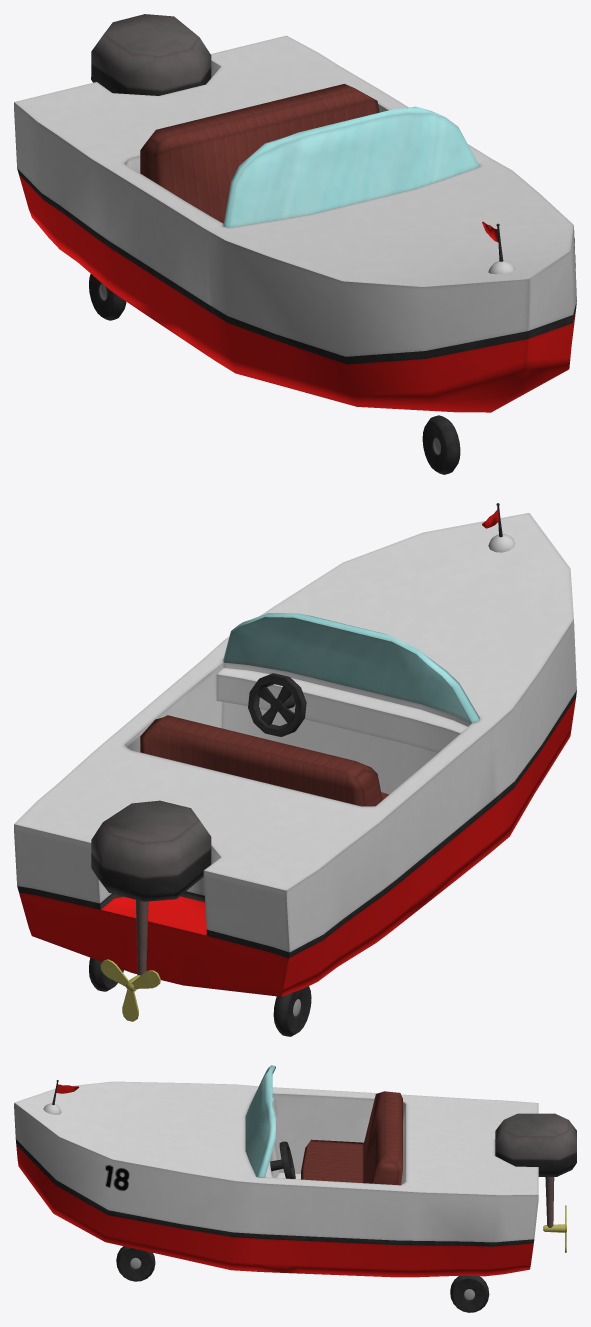
The model's file is boatmobile.obj.
The picture shows the model from 3 angles, top to bottom: view 1: azimuth 30°, elevation 25°; view 2: azimuth 150°, elevation 25°; view 3: azimuth 270°, elevation 25°; orthographic projection. The views are drawn at different scales.
Parts seen in each view (by area): view 1: pCylinder10; view 2: pCylinder10; view 3: pCylinder10.
Part boxes in pixels (bbox=[...]): pCylinder10: bbox=[14, 14, 576, 474]; pCylinder10: bbox=[14, 503, 576, 1036]; pCylinder10: bbox=[14, 1065, 576, 1312].
Size of the model in its own units: 1.37 by 1.33 by 3.37.
1 material, 1 textured.
